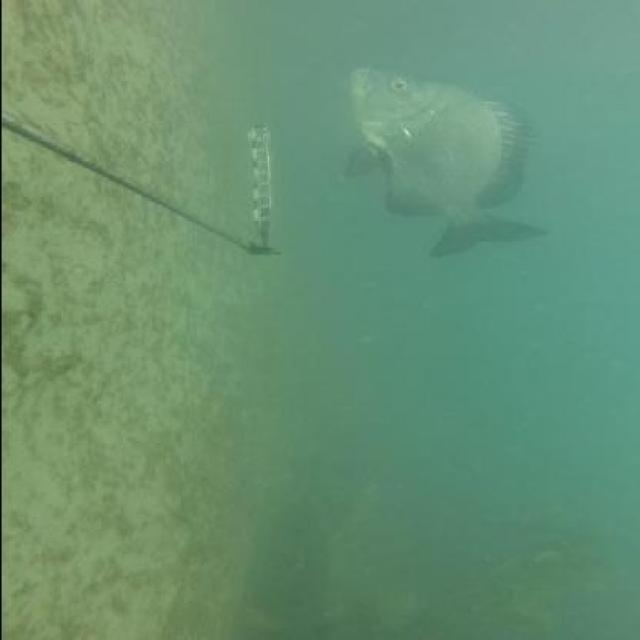acanthopagrus_palmaris: (338, 65, 556, 261)
